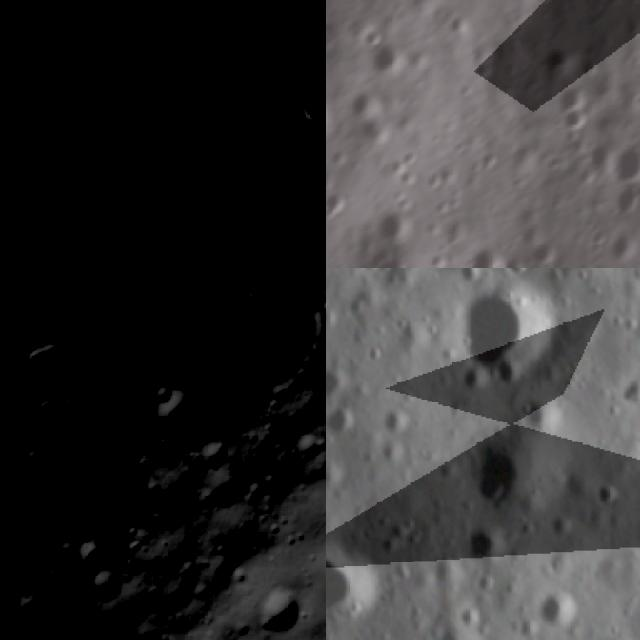crater: (443, 275, 567, 393), (326, 528, 398, 640), (10, 321, 92, 402), (228, 322, 318, 393), (463, 433, 537, 518), (142, 378, 210, 449), (241, 576, 315, 640), (527, 576, 593, 640), (450, 512, 511, 576), (79, 557, 137, 619), (2, 454, 57, 512), (0, 586, 57, 640), (202, 324, 254, 379), (514, 392, 564, 446), (63, 531, 114, 578), (281, 425, 326, 474), (576, 138, 618, 182), (374, 206, 414, 248), (422, 614, 484, 640), (536, 43, 578, 80), (367, 38, 407, 76), (126, 447, 162, 489), (609, 136, 640, 184), (622, 413, 640, 492), (612, 372, 640, 418), (551, 82, 586, 115), (467, 234, 498, 268), (611, 181, 640, 216), (560, 105, 593, 133), (313, 438, 326, 507), (326, 186, 346, 223), (499, 268, 536, 284), (0, 361, 8, 395)
